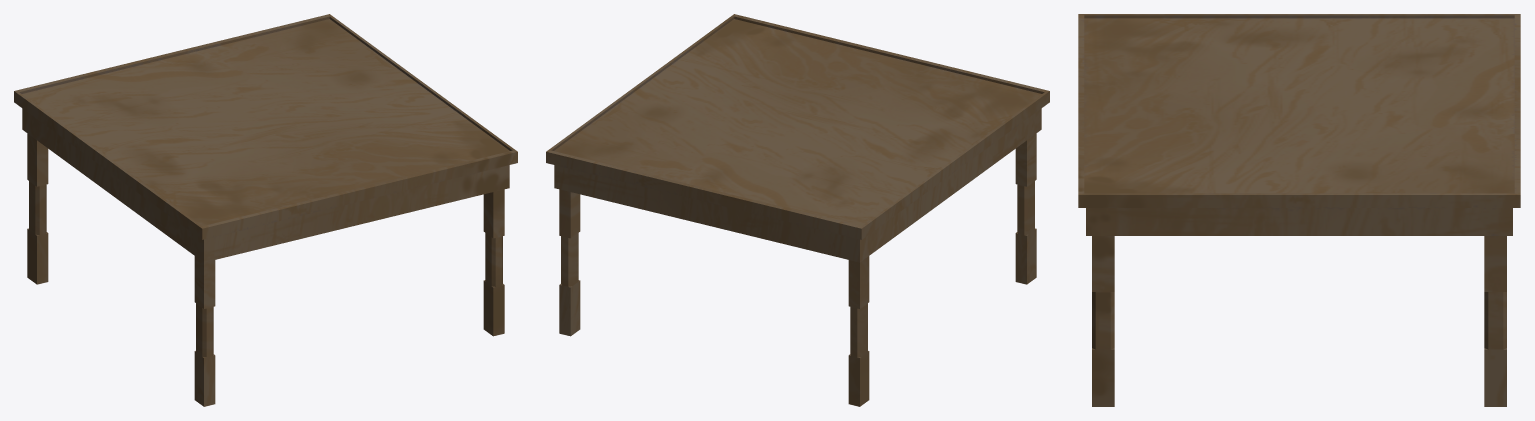
The model's file is old_teble.fbx.
3 renders of one model, left to right at view 1: azimuth 30°, elevation 25°; view 2: azimuth 150°, elevation 25°; view 3: azimuth 270°, elevation 25°, orthographic. The views are drawn at different scales.
Parts seen in each view (by area): view 1: Cylinder.062; view 2: Cylinder.062; view 3: Cylinder.062.
Part boxes in pixels (x1,y1,x2,y2): Cylinder.062: (14,14,517,406); Cylinder.062: (546,14,1049,406); Cylinder.062: (1078,14,1520,406).
Size of the model in its own units: 75.24 by 41.97 by 77.69.
